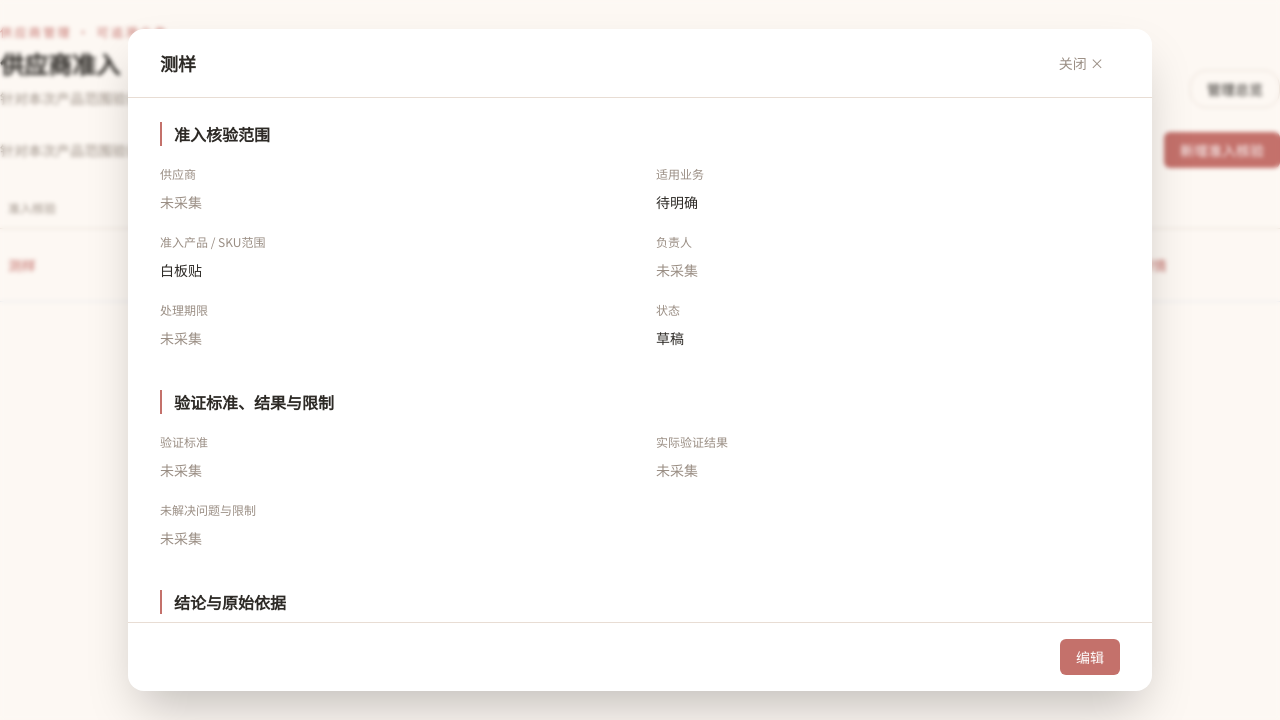
default detail is read-only and opens the shared edit dialog
The image size is (1280, 720).
Step 1. Click the button "编辑" → (1090, 657), box top-left (1060, 639), bottom-right (1120, 675)
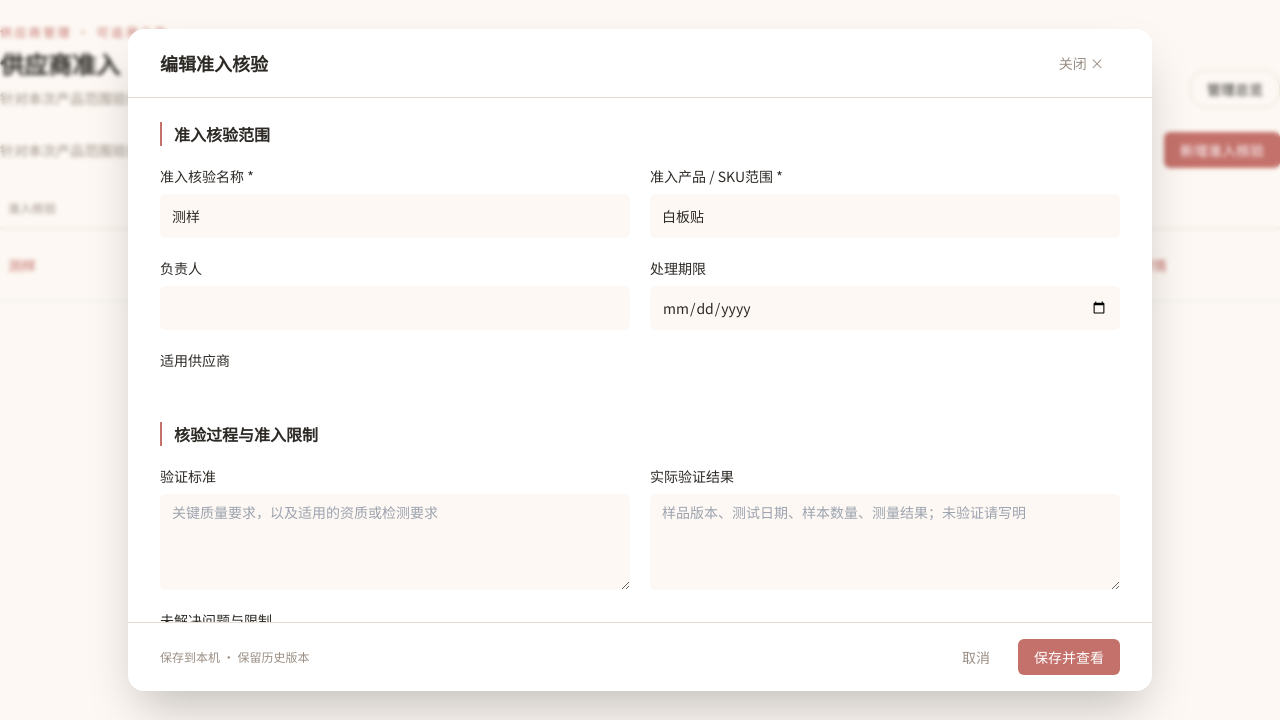
Check: the field labelled "准入核验名称 *" is shown, box top-left (160, 194), bottom-right (630, 238)
Check: the text box labelled "验证标准" is shown, box top-left (160, 494), bottom-right (630, 590)
